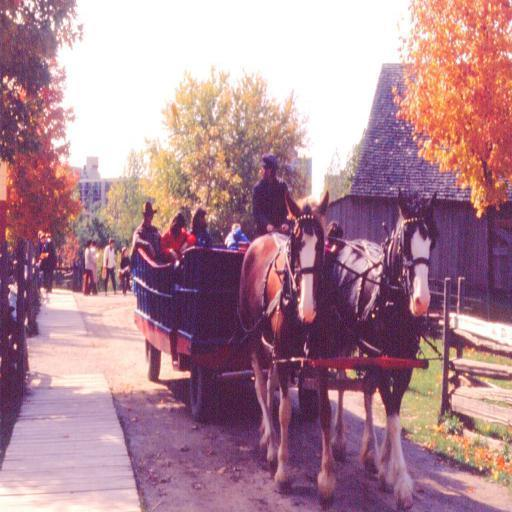horse: (330, 184, 444, 512), (236, 188, 336, 510)
